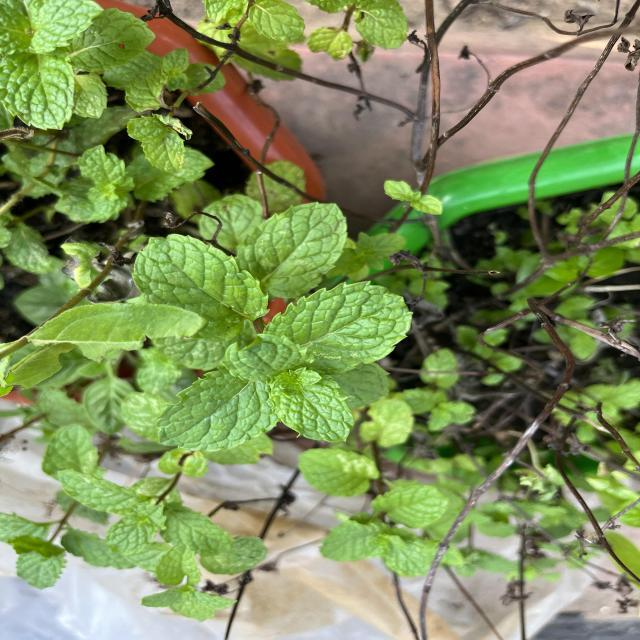Mentha spicata: (130, 232, 272, 343), (263, 279, 415, 376), (238, 201, 349, 299), (154, 368, 280, 454), (268, 367, 358, 444), (1, 50, 76, 132)
